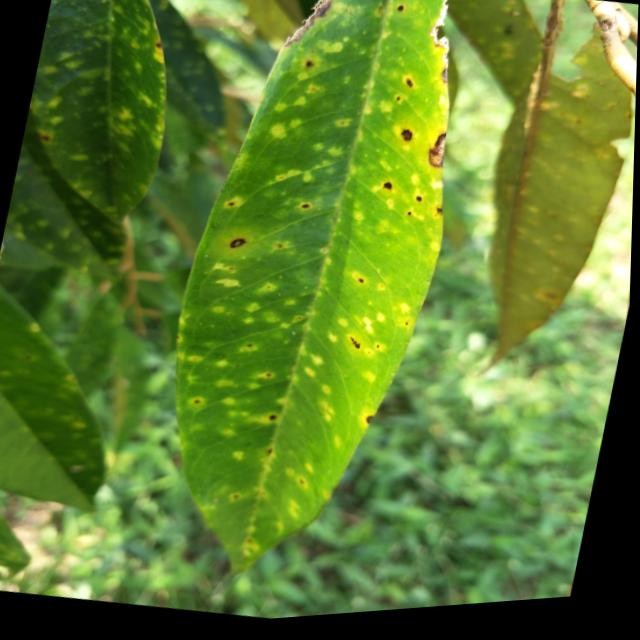Leaf Blight: (401, 0, 485, 85), (260, 0, 370, 64)
Leaf Spot: (173, 173, 390, 466), (279, 46, 369, 186), (355, 53, 436, 181)
